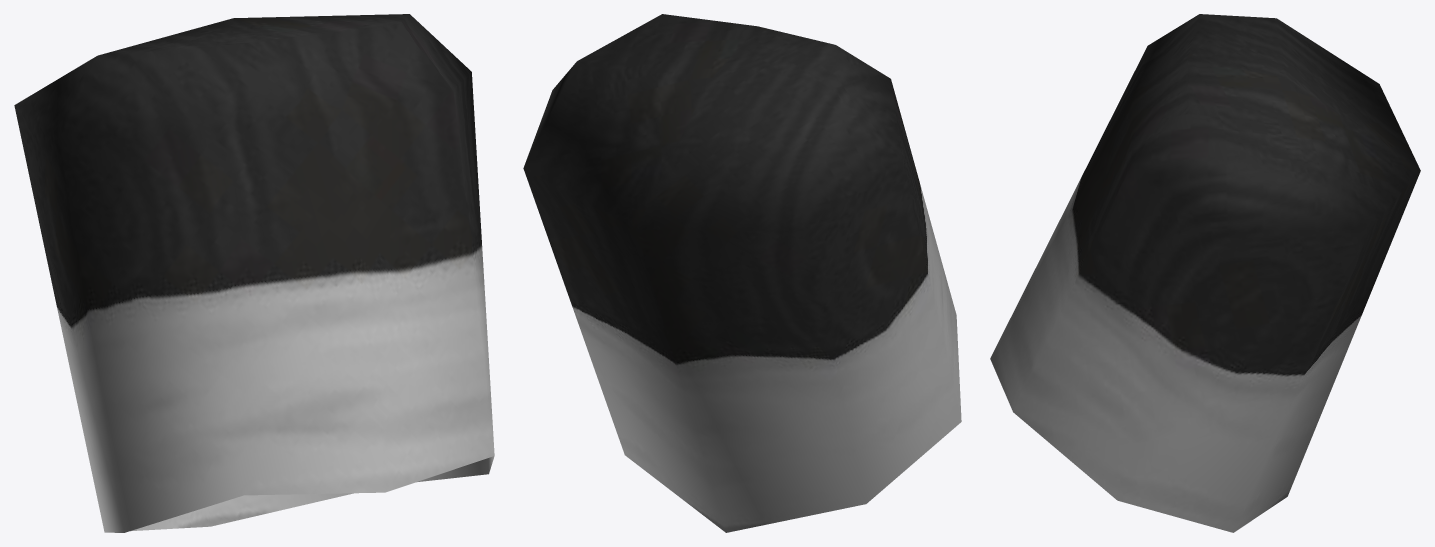
File: helmet-base.glb
The picture shows the model from 3 angles, left to right: view 1: azimuth 30°, elevation 25°; view 2: azimuth 150°, elevation 25°; view 3: azimuth 270°, elevation 25°; orthographic projection. The views are drawn at different scales.
Size of the model in its own units: 0.0623 by 0.0782 by 0.0675.
Materials: 1 (1 with a texture image).
